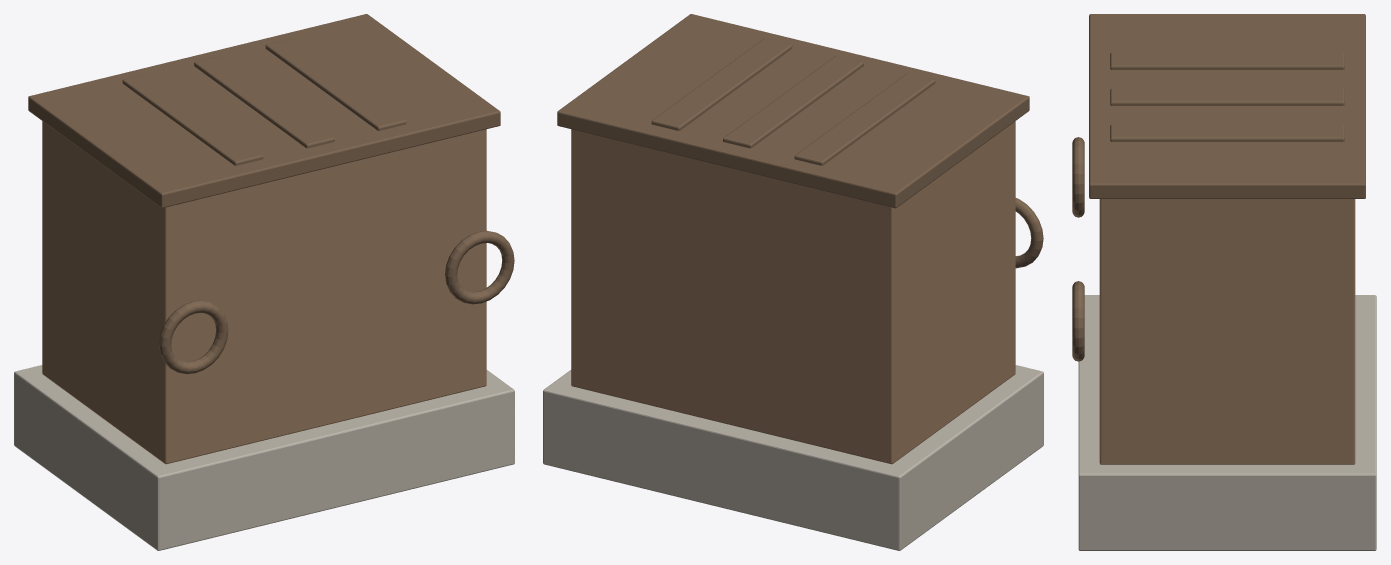
The model's file is offering_box.glb.
The picture shows the model from 3 angles, left to right: view 1: azimuth 30°, elevation 25°; view 2: azimuth 150°, elevation 25°; view 3: azimuth 270°, elevation 25°; orthographic projection. The views are drawn at different scales.
Visible parts, largest first — view 1: OfferingBox; view 2: OfferingBox; view 3: OfferingBox.
Boxes of the visible parts, <box> form: OfferingBox: <box>14,14,514,550</box>; OfferingBox: <box>543,14,1043,550</box>; OfferingBox: <box>1072,14,1376,550</box>.
Bounding box in the file's own units: 1 × 0.95 × 0.7144.
